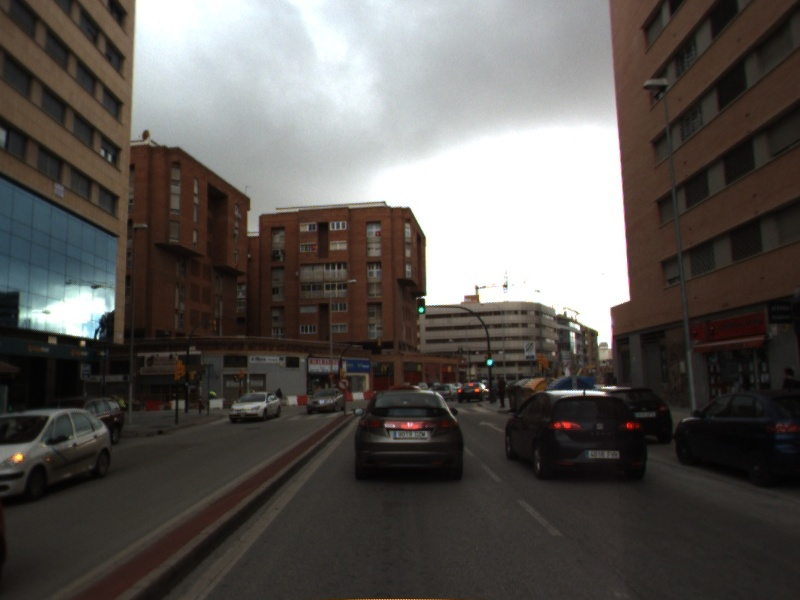STRAIGHT: (477, 419, 507, 434)
